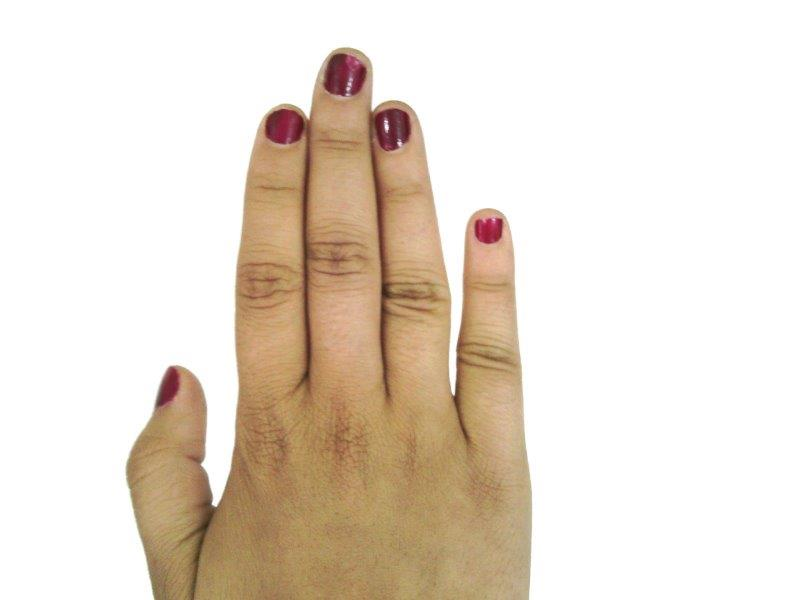hand: (126, 49, 530, 596)
